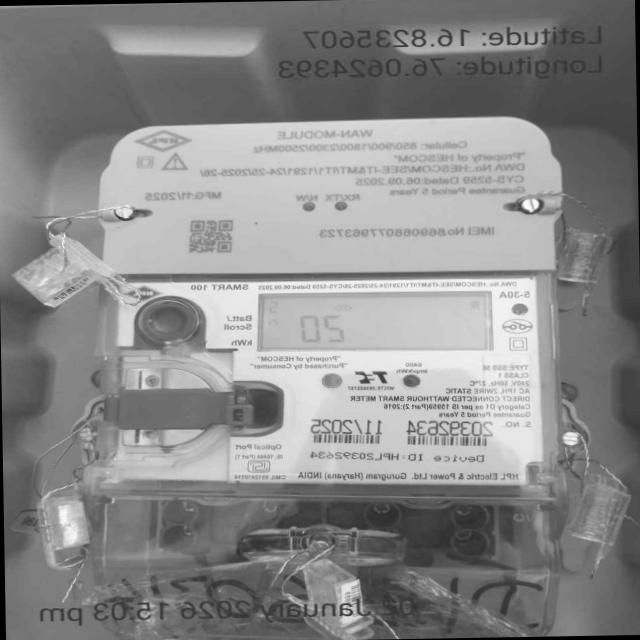meter: (81, 120, 556, 487)
